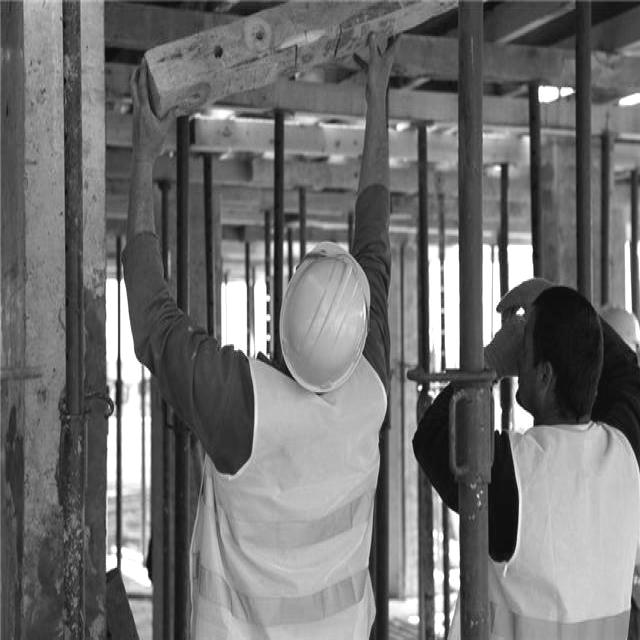hand_noglove: (125, 53, 181, 162), (349, 29, 405, 101)
head_helmet: (274, 235, 373, 395)
head_nohelmet: (522, 273, 609, 361)
person: (176, 208, 394, 640), (468, 272, 640, 640)
vest: (194, 349, 384, 640), (477, 423, 640, 640)
